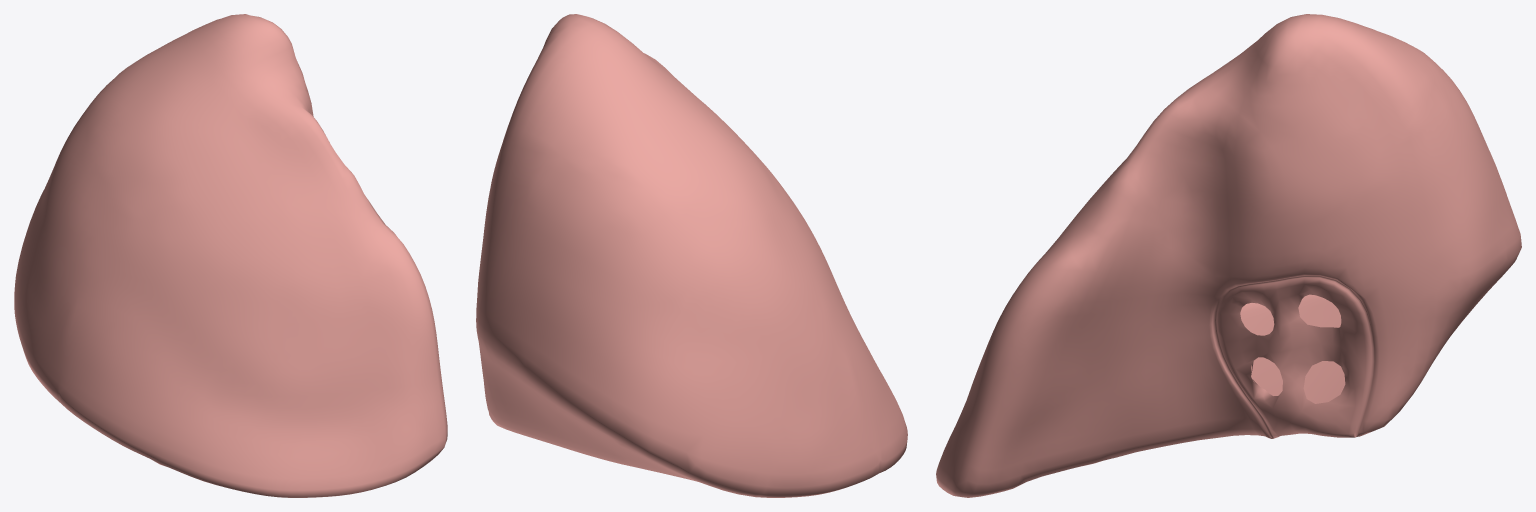
The model's file is lung-superior-right.glb.
3 renders of one model, left to right at view 1: azimuth 30°, elevation 25°; view 2: azimuth 150°, elevation 25°; view 3: azimuth 270°, elevation 25°, orthographic. The views are drawn at different scales.
Parts seen in each view (by area): view 1: Superior lobe of right lung; view 2: Superior lobe of right lung; view 3: Superior lobe of right lung.
Part boxes in pixels (x1,y1,x2,y2): Superior lobe of right lung: (14, 14, 447, 497); Superior lobe of right lung: (476, 14, 907, 497); Superior lobe of right lung: (936, 14, 1521, 497).
Size of the model in its own units: 0.1102 by 0.1374 by 0.1557.
